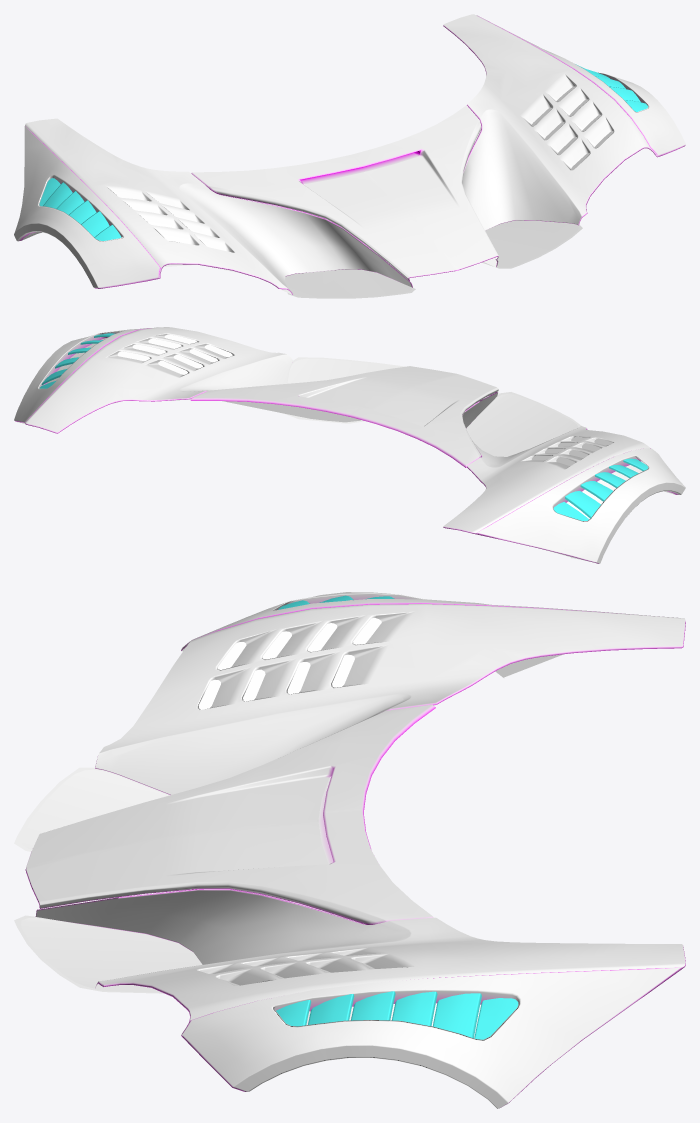
File: Car_Ford_GT_2017_Hood_SetQ.fbx
3 views of the same model, one above another, from view 1: azimuth 30°, elevation 25°; view 2: azimuth 150°, elevation 25°; view 3: azimuth 270°, elevation 25° (orthographic). The views are drawn at different scales.
Parts seen in each view (by area): view 1: Hood 6; view 2: Hood 6; view 3: Hood 6.
Part boxes in pixels (left/top/right/bottom): Hood 6: left=14, top=14, right=685, bottom=298; Hood 6: left=14, top=327, right=685, bottom=563; Hood 6: left=14, top=592, right=685, bottom=1108.
Bounding box in the file's own units: 2.14 × 0.2591 × 1.33.
